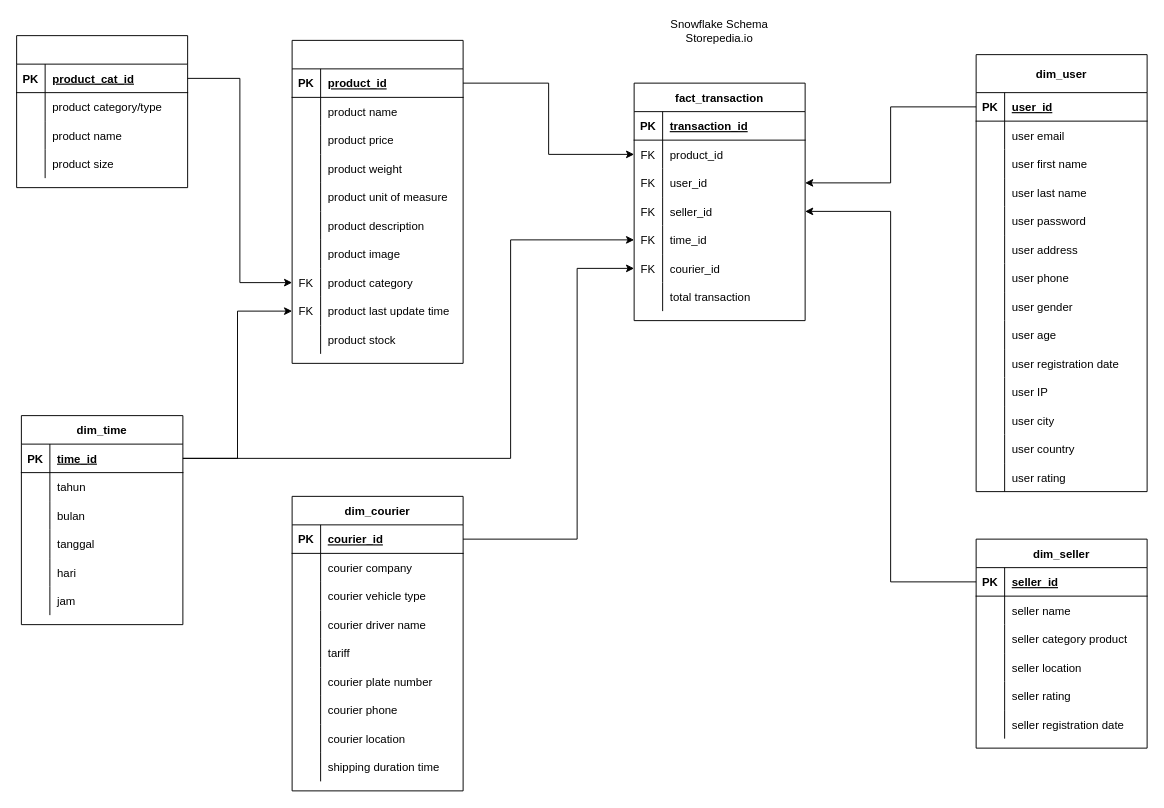
Some shapes in this 1164 by 808 pixel diagram are drawn without their labels. Each missing label, with the box of its shape:
dim_product: (291, 39, 463, 363)
dim_product_category: (16, 35, 188, 188)
